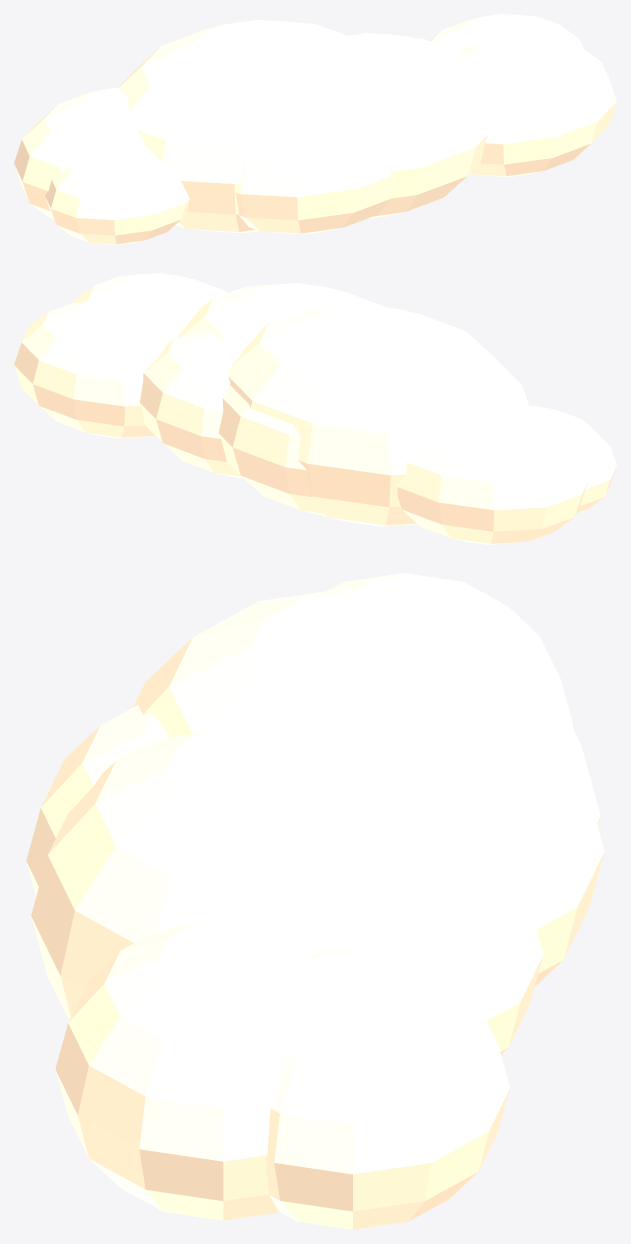
The model's file is cloud_warm_b.fbx.
3 renders of one model, top to bottom at view 1: azimuth 30°, elevation 25°; view 2: azimuth 150°, elevation 25°; view 3: azimuth 270°, elevation 25°, orthographic. The views are drawn at different scales.
Visible parts, largest first — view 1: cloud_warm_b; view 2: cloud_warm_b; view 3: cloud_warm_b.
Boxes of the visible parts, x1,y1,x2,y2 form: cloud_warm_b: (14,14,616,244); cloud_warm_b: (14,273,616,544); cloud_warm_b: (26,573,604,1229).
Size of the model in its own units: 38.28 by 12.17 by 17.41.
